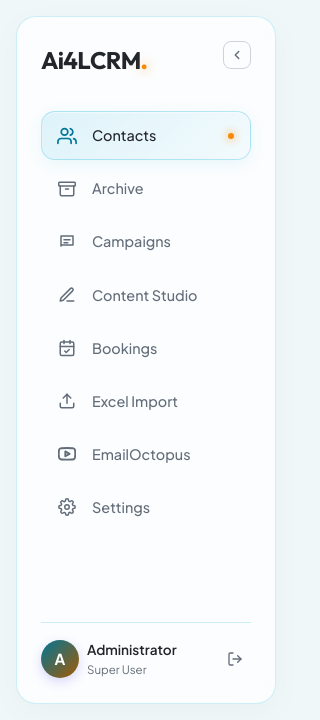
Test: Sidebar › collapse › renames the toggle once collapsed
What coordinates should you click on to do the following:
click the button named "Collapse sidebar"
I would click on:
 (237, 55)
Its box is [223,41,251,69].
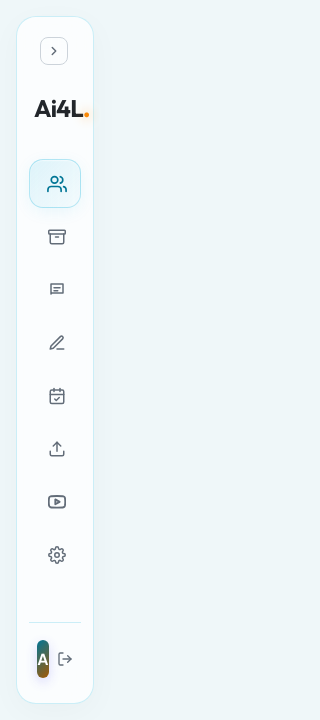
Check: the button named "Expand sidebar" is shown, box [40,37,68,65]
